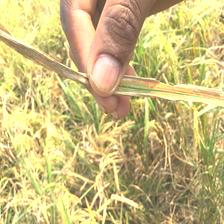2 BacterialBlight: (7, 29, 223, 119)
